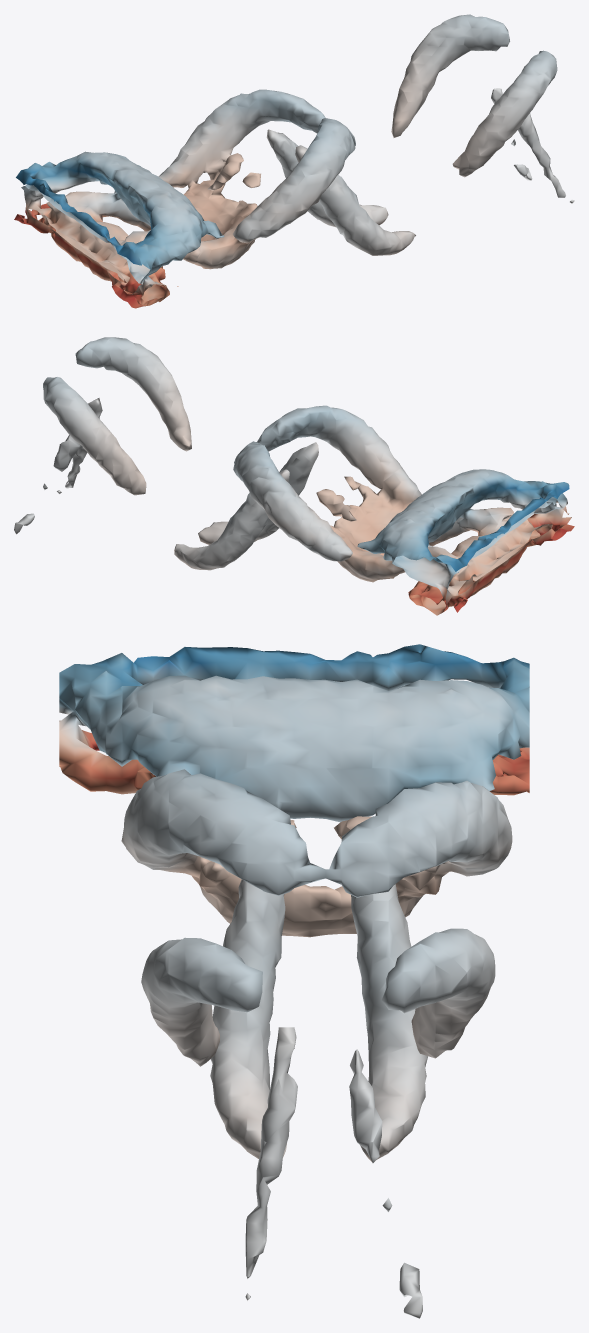
The picture shows the model from 3 angles, top to bottom: view 1: azimuth 30°, elevation 25°; view 2: azimuth 150°, elevation 25°; view 3: azimuth 270°, elevation 25°; orthographic projection. The views are drawn at different scales.
Size of the model in its own units: 5.81 by 1.98 by 2.5.
